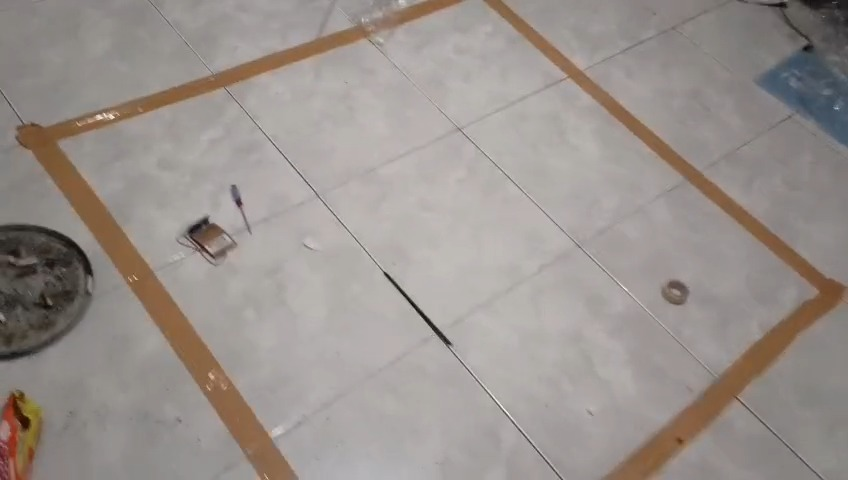floor marking: (485, 0, 847, 479), (17, 27, 367, 479)
